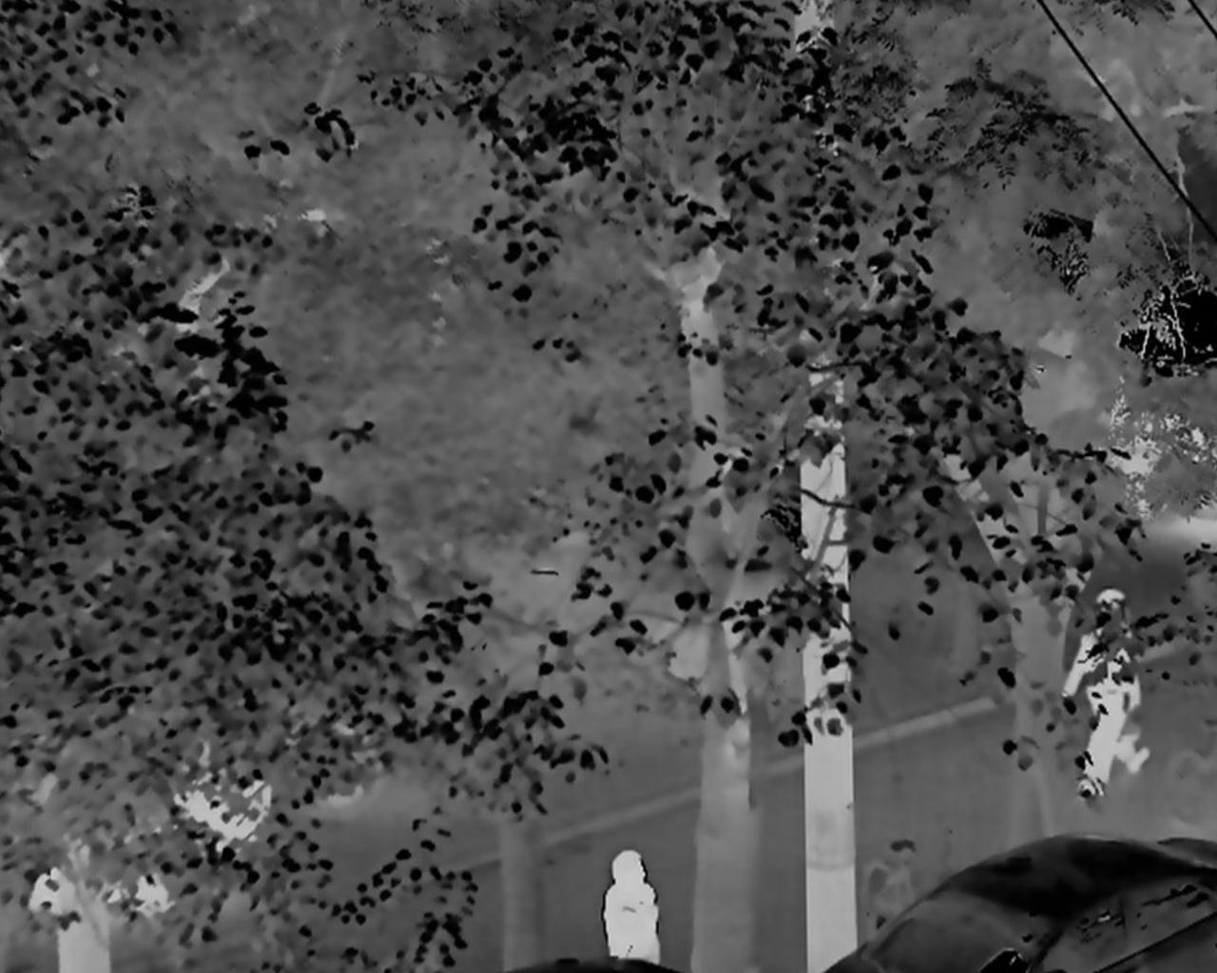person: (1072, 586, 1150, 800), (602, 849, 664, 973)
